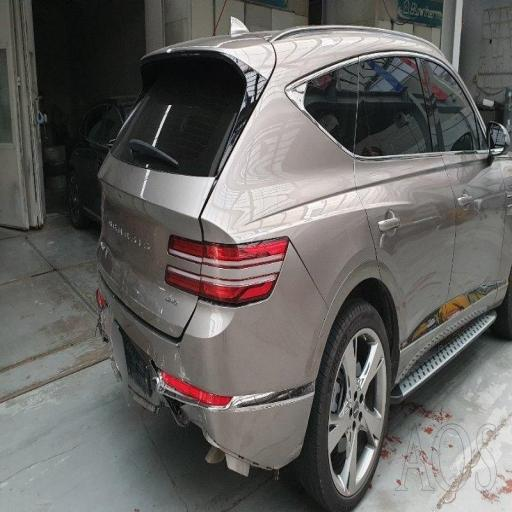broken: (95, 269, 368, 510)
scratch: (214, 106, 427, 236)
